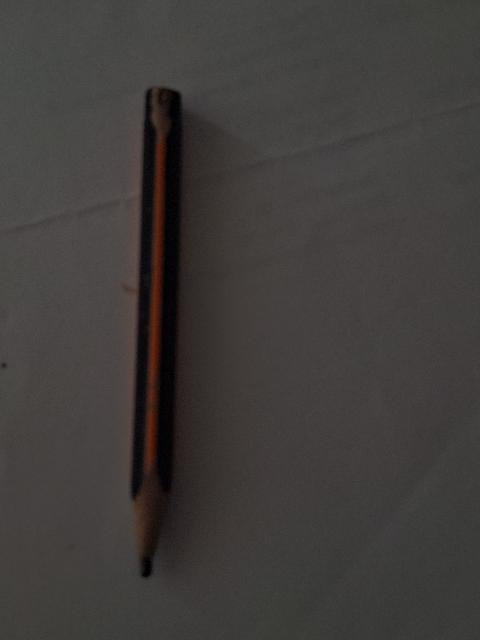writing_tool: (122, 86, 193, 584)
